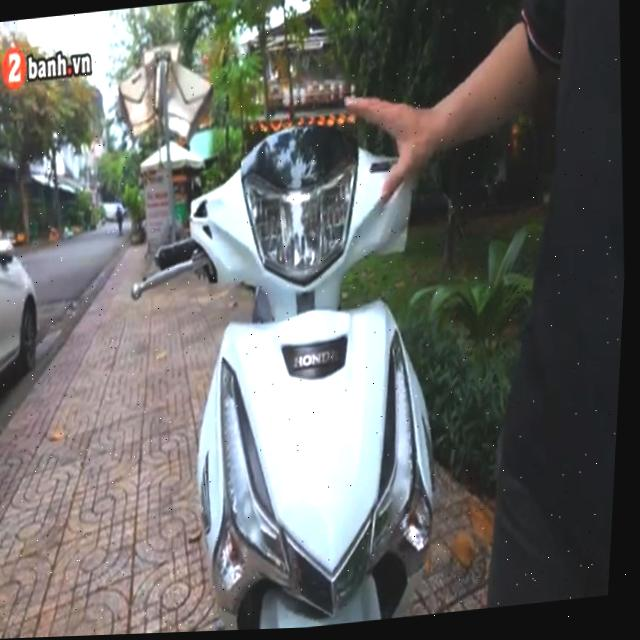car: (0, 211, 60, 451)
motorcycle: (102, 96, 513, 635)
